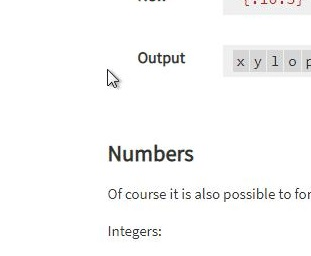cursor: (106, 67, 119, 88)
